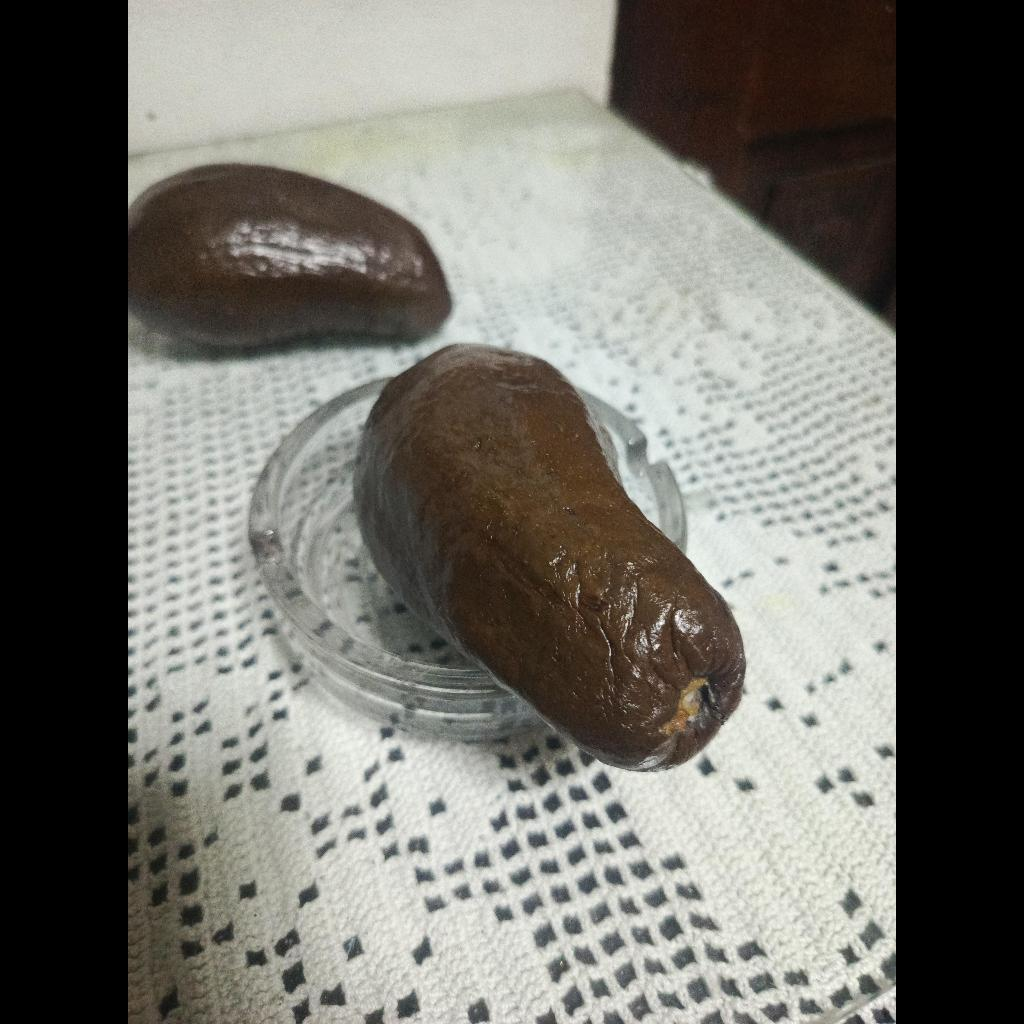stem end rot: (354, 345, 745, 770)
